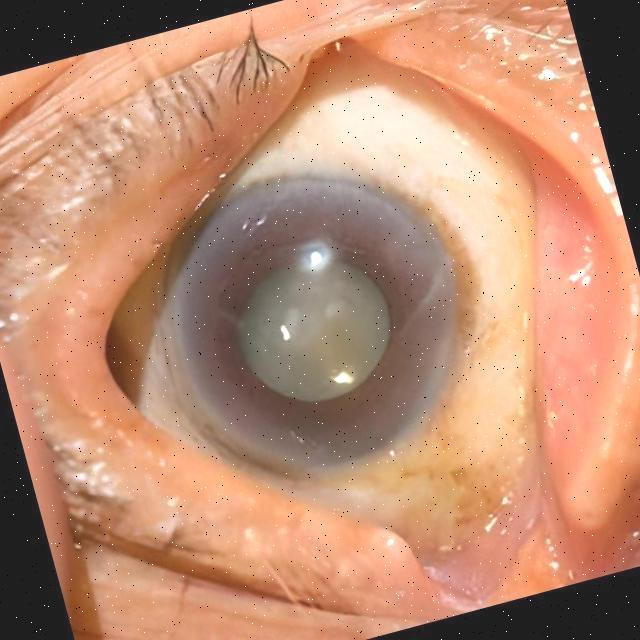Cataract: (111, 106, 522, 527)
